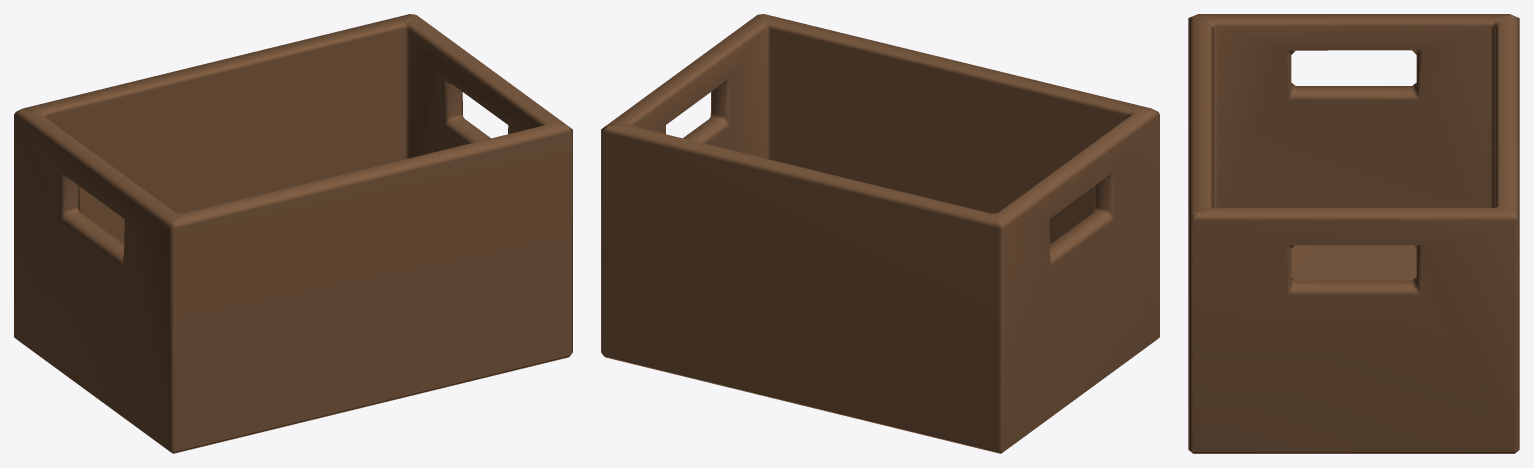
3 renders of one model, left to right at view 1: azimuth 30°, elevation 25°; view 2: azimuth 150°, elevation 25°; view 3: azimuth 270°, elevation 25°, orthographic. The views are drawn at different scales.
Parts seen in each view (by area): view 1: Box_5; view 2: Box_5; view 3: Box_5.
Part boxes in pixels (x1,y1,x2,y2): Box_5: [14, 14, 572, 453]; Box_5: [601, 14, 1159, 453]; Box_5: [1188, 14, 1519, 453].
Bounding box in the file's own units: 0.3478 × 0.1901 × 0.238.
1 material, 1 textured.
